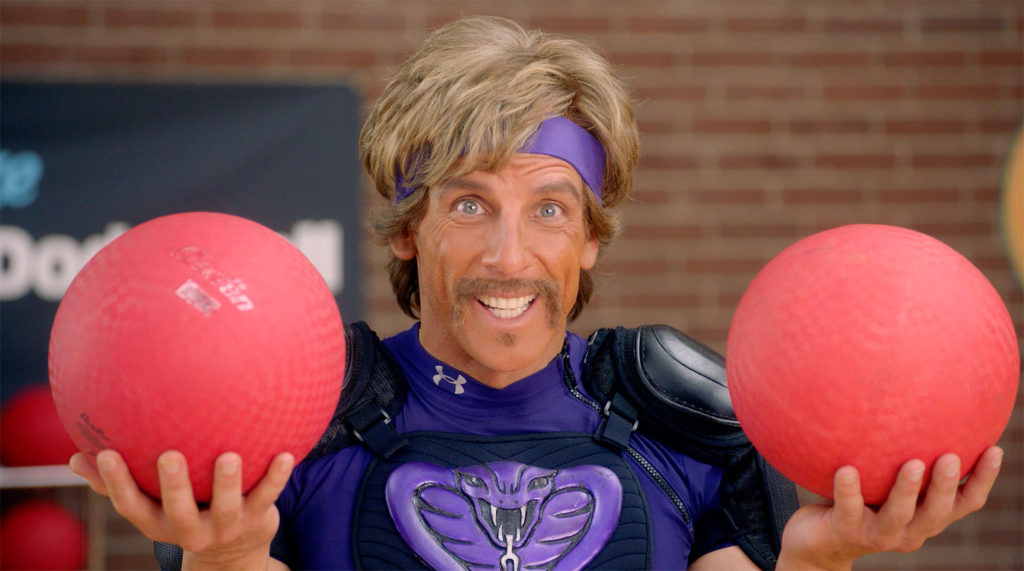red ball: (46, 207, 346, 505), (724, 224, 1024, 503)
